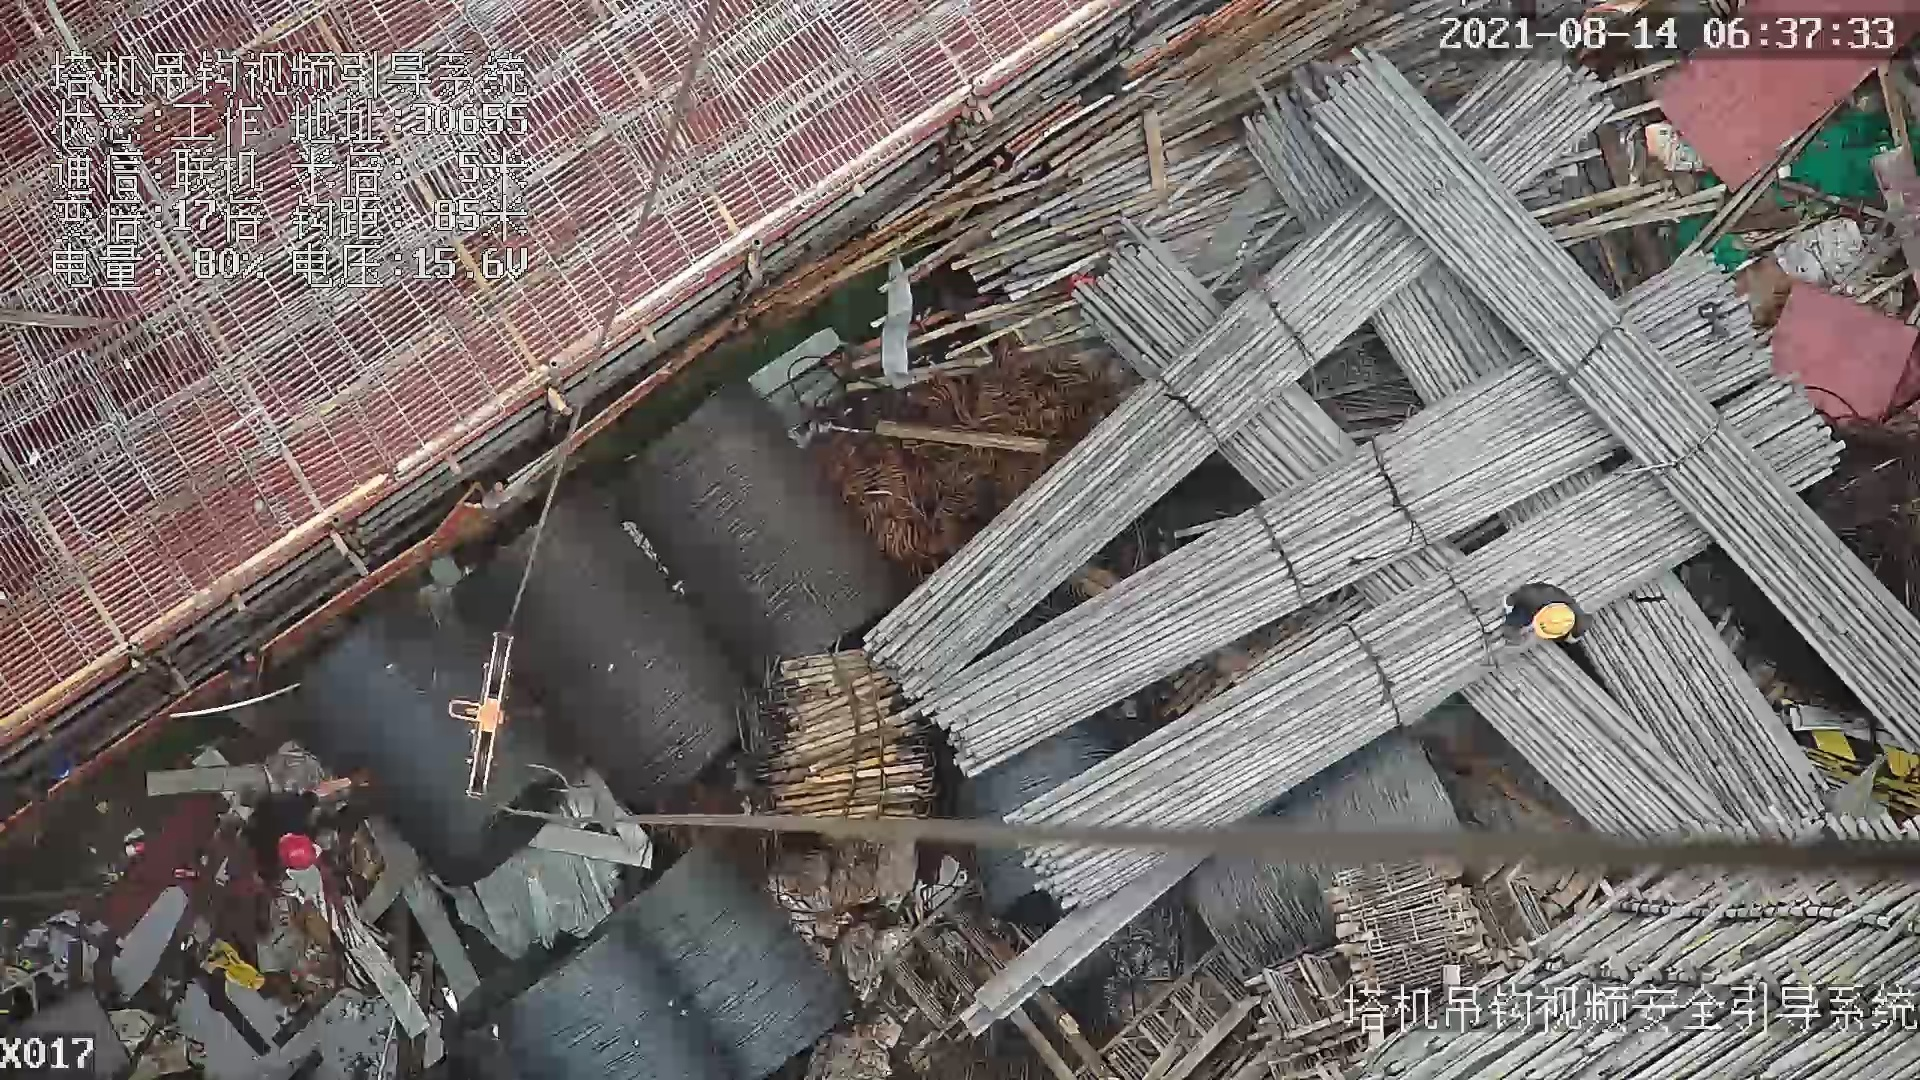helmet: (270, 829, 320, 872), (1533, 598, 1577, 642)
hook: (450, 626, 513, 803)
person: (235, 787, 322, 894), (1488, 578, 1592, 653)
scaffold: (928, 39, 1903, 847), (720, 614, 932, 812)
